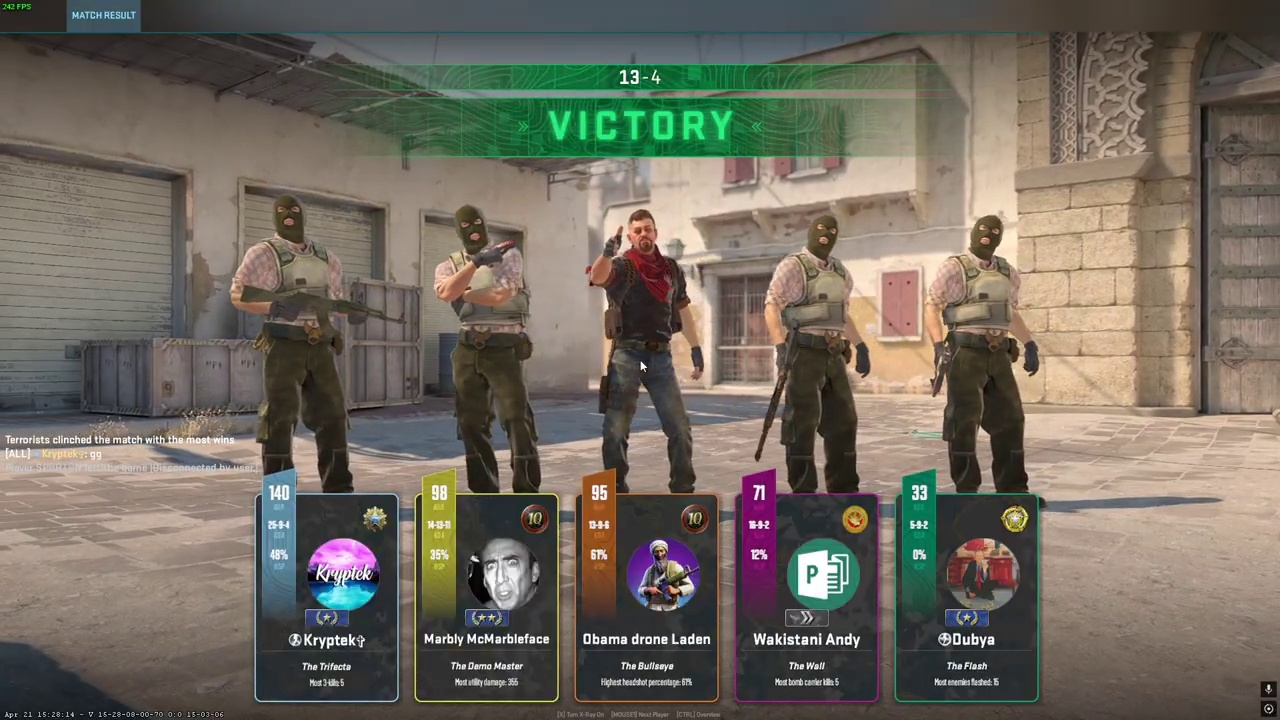Terrorist: (247, 195, 354, 495), (929, 215, 1035, 496), (593, 210, 696, 494), (765, 215, 866, 495), (441, 204, 537, 492)
